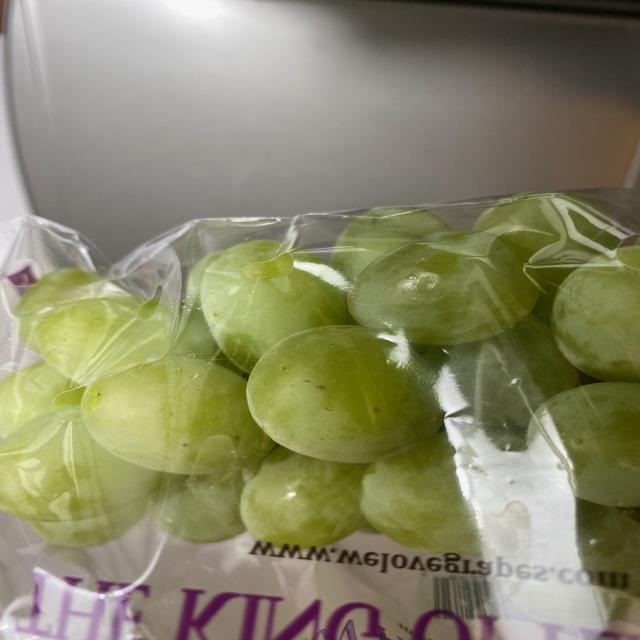grapes: (6, 206, 636, 605)
